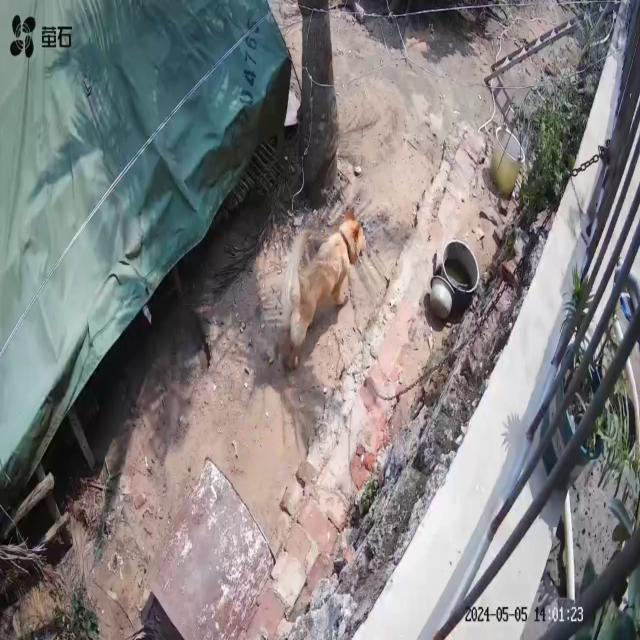dog: (280, 214, 368, 370)
